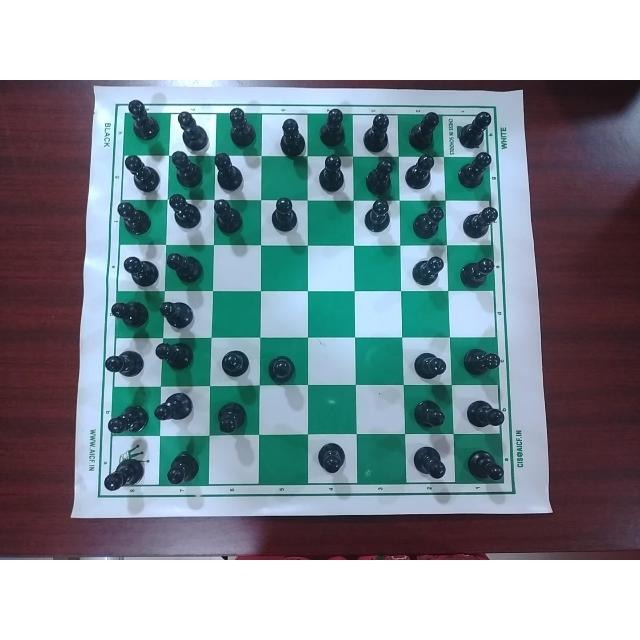black-pawn: (125, 97, 161, 141), (165, 192, 205, 231), (174, 110, 211, 152), (464, 394, 507, 430), (210, 152, 248, 192), (225, 106, 259, 150), (116, 197, 154, 236), (459, 205, 498, 243), (170, 150, 206, 191), (103, 457, 147, 490), (125, 154, 161, 194), (153, 393, 201, 423), (164, 250, 206, 284), (107, 404, 151, 436), (410, 203, 445, 243), (410, 348, 450, 383), (460, 345, 501, 379), (464, 449, 505, 483), (318, 107, 349, 151), (405, 110, 439, 150), (456, 109, 490, 149), (211, 197, 247, 234), (276, 118, 309, 158), (156, 295, 196, 328), (315, 155, 349, 193), (268, 195, 300, 235), (155, 340, 196, 371), (109, 298, 151, 328), (459, 256, 496, 290), (121, 252, 159, 285), (365, 157, 397, 196), (103, 348, 144, 378), (456, 152, 492, 186), (165, 451, 201, 485), (403, 153, 436, 189), (412, 399, 448, 431), (412, 447, 448, 479), (410, 255, 443, 289), (214, 401, 248, 434), (363, 112, 391, 152), (315, 440, 347, 475), (365, 197, 392, 236), (265, 356, 297, 384), (218, 348, 249, 376)
